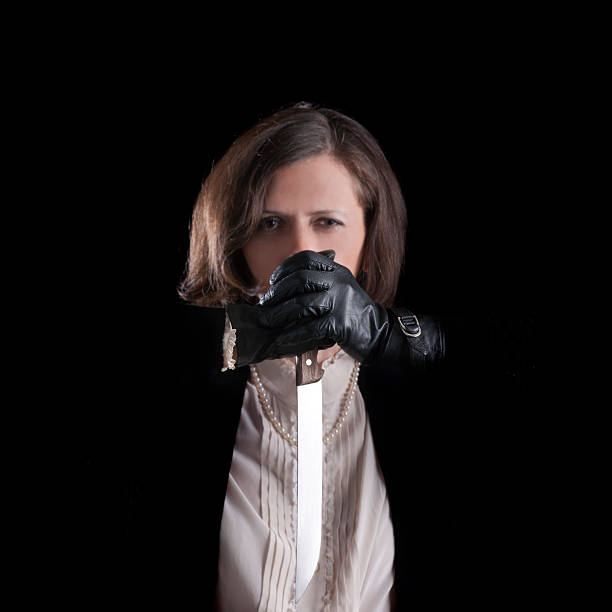knife: (293, 355, 325, 604)
